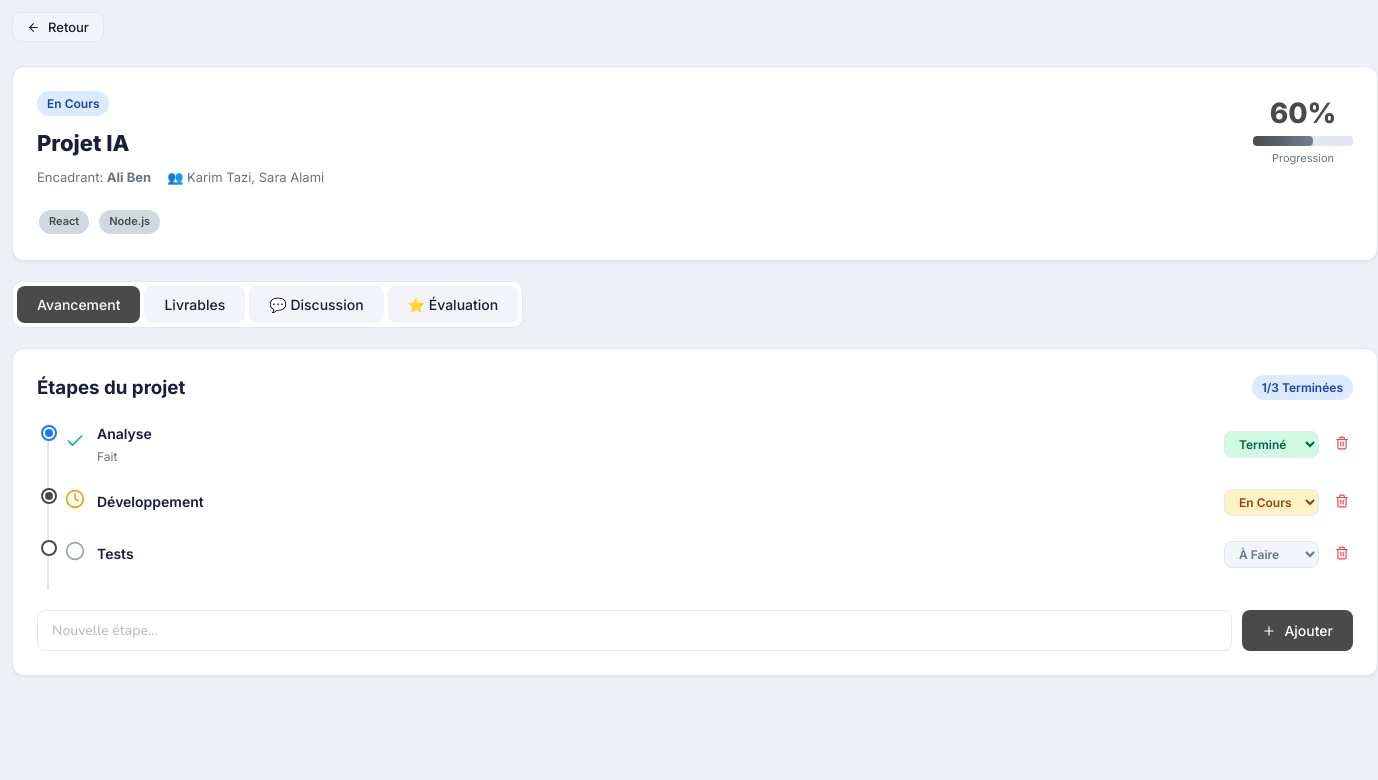
Test: ProjectDetailPage - Deliverables Tab › shows empty state when no deliverables
Expected: the heading "Projet IA" is shown, [37,130,130,156]
What coordinates should you click on to do the following:
click the button "Livrables"
I would click on:
 (195, 304)
Its box is [144,286,245,323].
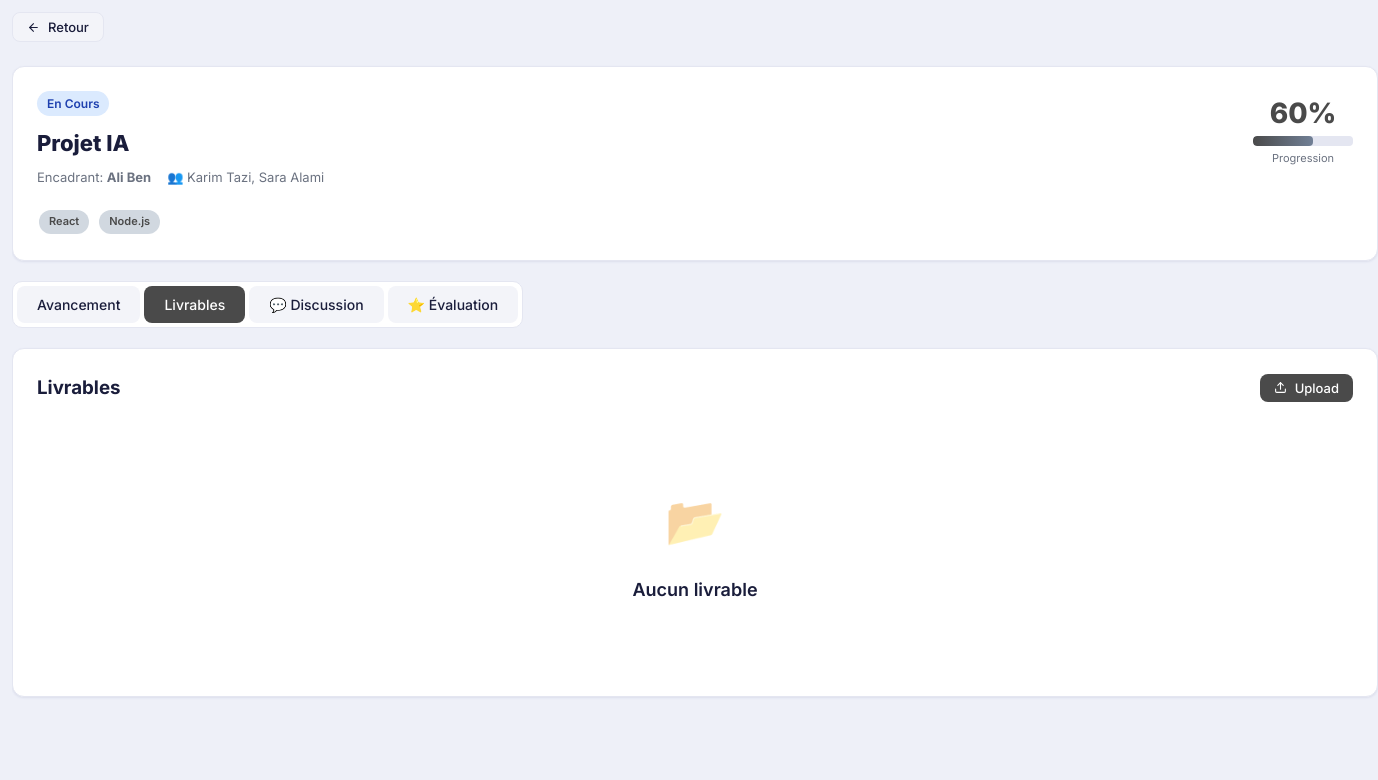
Expected: the text "Aucun livrable" is shown, [632,578,758,600]
